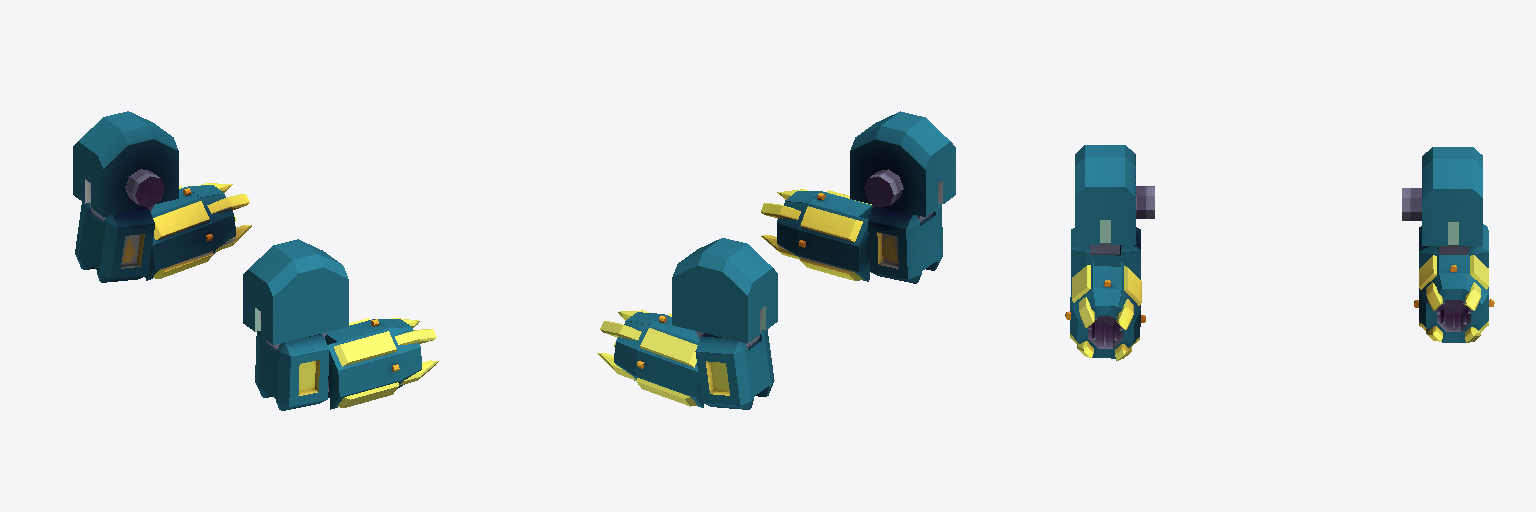
3 views of the same model, side by side, from view 1: azimuth 30°, elevation 25°; view 2: azimuth 150°, elevation 25°; view 3: azimuth 270°, elevation 25° (orthographic).
Visible parts, largest first — view 1: Object005, Object003, Object001, Object007, Object006, Object002; view 2: Object003, Object005, Object001, Object007, Object006, Object002; view 3: Object003, Object005, Object001, Object007, Object002, Object006.
Boxes of the visible parts, x1,y1,x2,y2 form: Object005: [73, 111, 178, 216]; Object003: [243, 239, 348, 344]; Object001: [325, 318, 438, 409]; Object007: [145, 183, 251, 280]; Object006: [75, 202, 154, 282]; Object002: [255, 331, 328, 410]; Object003: [850, 111, 955, 216]; Object005: [672, 238, 777, 343]; Object001: [761, 189, 873, 281]; Object007: [597, 310, 703, 407]; Object006: [695, 329, 774, 409]; Object002: [868, 203, 942, 283]; Object003: [1075, 145, 1154, 244]; Object005: [1402, 147, 1482, 245]; Object001: [1065, 261, 1145, 360]; Object007: [1414, 254, 1494, 342]; Object002: [1071, 227, 1140, 279]; Object006: [1419, 224, 1488, 268].
Bounding box in the file's own units: 38.47 × 35.3 × 83.71.
1 materials, 1 textured.